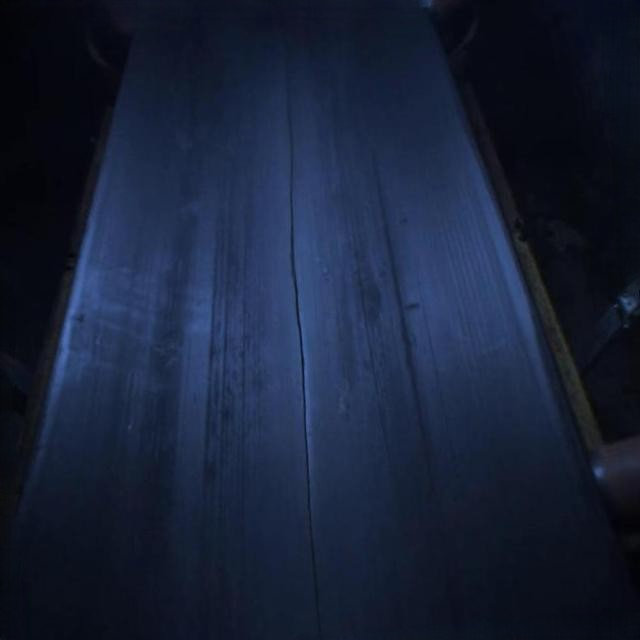Tear: (272, 45, 337, 640)
